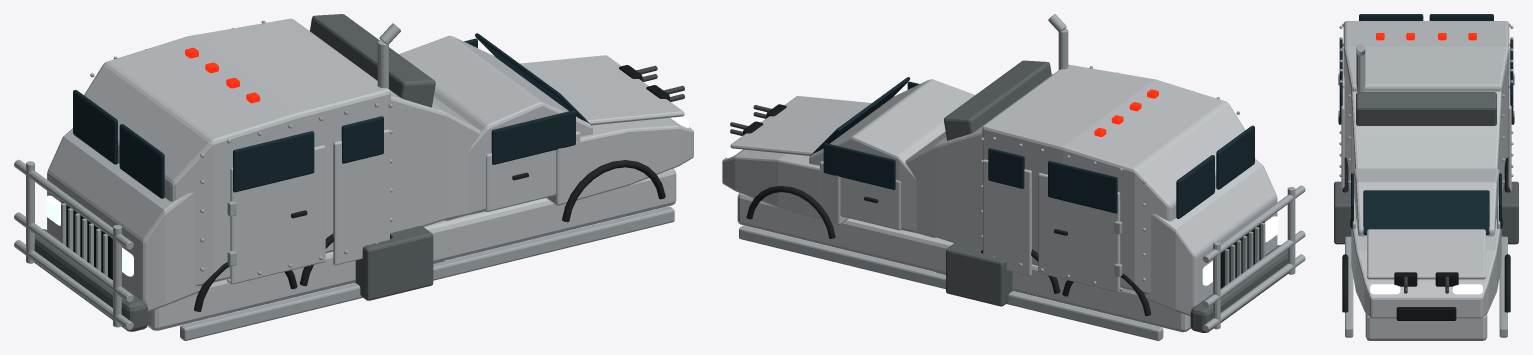
The model's file is blackjack_production.glb.
3 renders of one model, left to right at view 1: azimuth 30°, elevation 25°; view 2: azimuth 150°, elevation 25°; view 3: azimuth 270°, elevation 25°, orthographic. The views are drawn at different scales.
Parts seen in each view (by area): view 1: Body_ArmoredCab, Body_ChassisSpine, Body_ArmoredNose, Body_InterceptorCab, Body_CenterTransition, Body_VanDoor_1, Trim_SideRail_1, Body_InterceptorNose, Body_InterceptorHood, Body_RearDoor_1, Detail_RightEquipmentBox, Armor_CenterBackbone (+17 smaller); view 2: Body_ArmoredCab, Body_ChassisSpine, Body_ArmoredNose, Body_InterceptorCab, Body_CenterTransition, Body_VanDoor_-1, Body_InterceptorNose, Trim_SideRail_-1, Body_InterceptorHood, Body_RearDoor_-1, Armor_CenterBackbone, Detail_LeftEquipmentBox (+16 smaller); view 3: Body_ArmoredCab, Body_CenterTransition, Body_InterceptorHood, Body_InterceptorNose, Glass_InterceptorWindshield, Armor_CenterBackbone, Body_InterceptorCab, Body_ChassisSpine, Detail_LeftEquipmentBox, Detail_RightEquipmentBox, Grille_InterceptorAirDam, Trim_SideRail_1 (+16 smaller).
Part boxes in pixels (<box>): Body_ArmoredCab: <box>84,18,390,285</box>; Body_ChassisSpine: <box>147,168,676,330</box>; Body_ArmoredNose: <box>47,128,201,311</box>; Body_InterceptorCab: <box>399,35,592,220</box>; Body_CenterTransition: <box>308,30,485,233</box>; Body_VanDoor_1: <box>230,145,325,284</box>; Trim_SideRail_1: <box>180,206,674,340</box>; Body_InterceptorNose: <box>546,117,693,205</box>; Body_InterceptorHood: <box>520,55,684,125</box>; Body_RearDoor_1: <box>333,129,389,265</box>; Detail_RightEquipmentBox: <box>355,226,433,300</box>; Armor_CenterBackbone: <box>310,14,435,107</box>; Body_ArmoredCab: <box>982,64,1245,293</box>; Body_ChassisSpine: <box>737,193,1190,332</box>; Body_ArmoredNose: <box>1144,158,1277,315</box>; Body_InterceptorCab: <box>809,79,974,237</box>; Body_CenterTransition: <box>901,74,1052,248</box>; Body_VanDoor_-1: <box>1038,173,1120,292</box>; Body_InterceptorNose: <box>722,149,848,224</box>; Trim_SideRail_-1: <box>739,225,1163,340</box>; Body_InterceptorHood: <box>730,96,871,155</box>; Body_RearDoor_-1: <box>983,159,1031,275</box>; Armor_CenterBackbone: <box>944,60,1051,140</box>; Detail_LeftEquipmentBox: <box>946,242,1012,306</box>; Body_ArmoredCab: <box>1343,21,1509,191</box>; Body_CenterTransition: <box>1351,91,1501,173</box>; Body_InterceptorHood: <box>1367,229,1485,279</box>; Body_InterceptorNose: <box>1351,219,1501,318</box>; Glass_InterceptorWindshield: <box>1363,190,1489,234</box>; Armor_CenterBackbone: <box>1356,92,1496,125</box>; Body_InterceptorCab: <box>1353,168,1499,236</box>; Body_ChassisSpine: <box>1365,313,1487,340</box>; Detail_LeftEquipmentBox: <box>1501,181,1518,244</box>; Detail_RightEquipmentBox: <box>1334,181,1351,244</box>; Grille_InterceptorAirDam: <box>1396,307,1456,320</box>; Trim_SideRail_1: <box>1345,180,1353,337</box>.
Size of the model in its own units: 2.15 by 0.9375 by 0.76.
